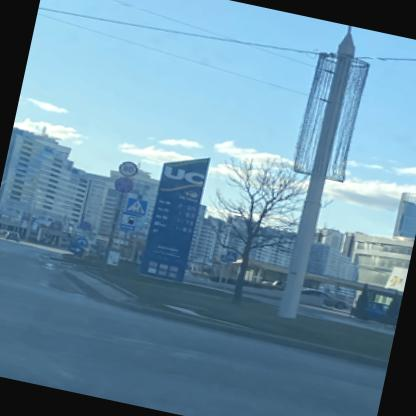crosswalk: (222, 249, 236, 262)
speedlimit: (115, 158, 136, 175)
